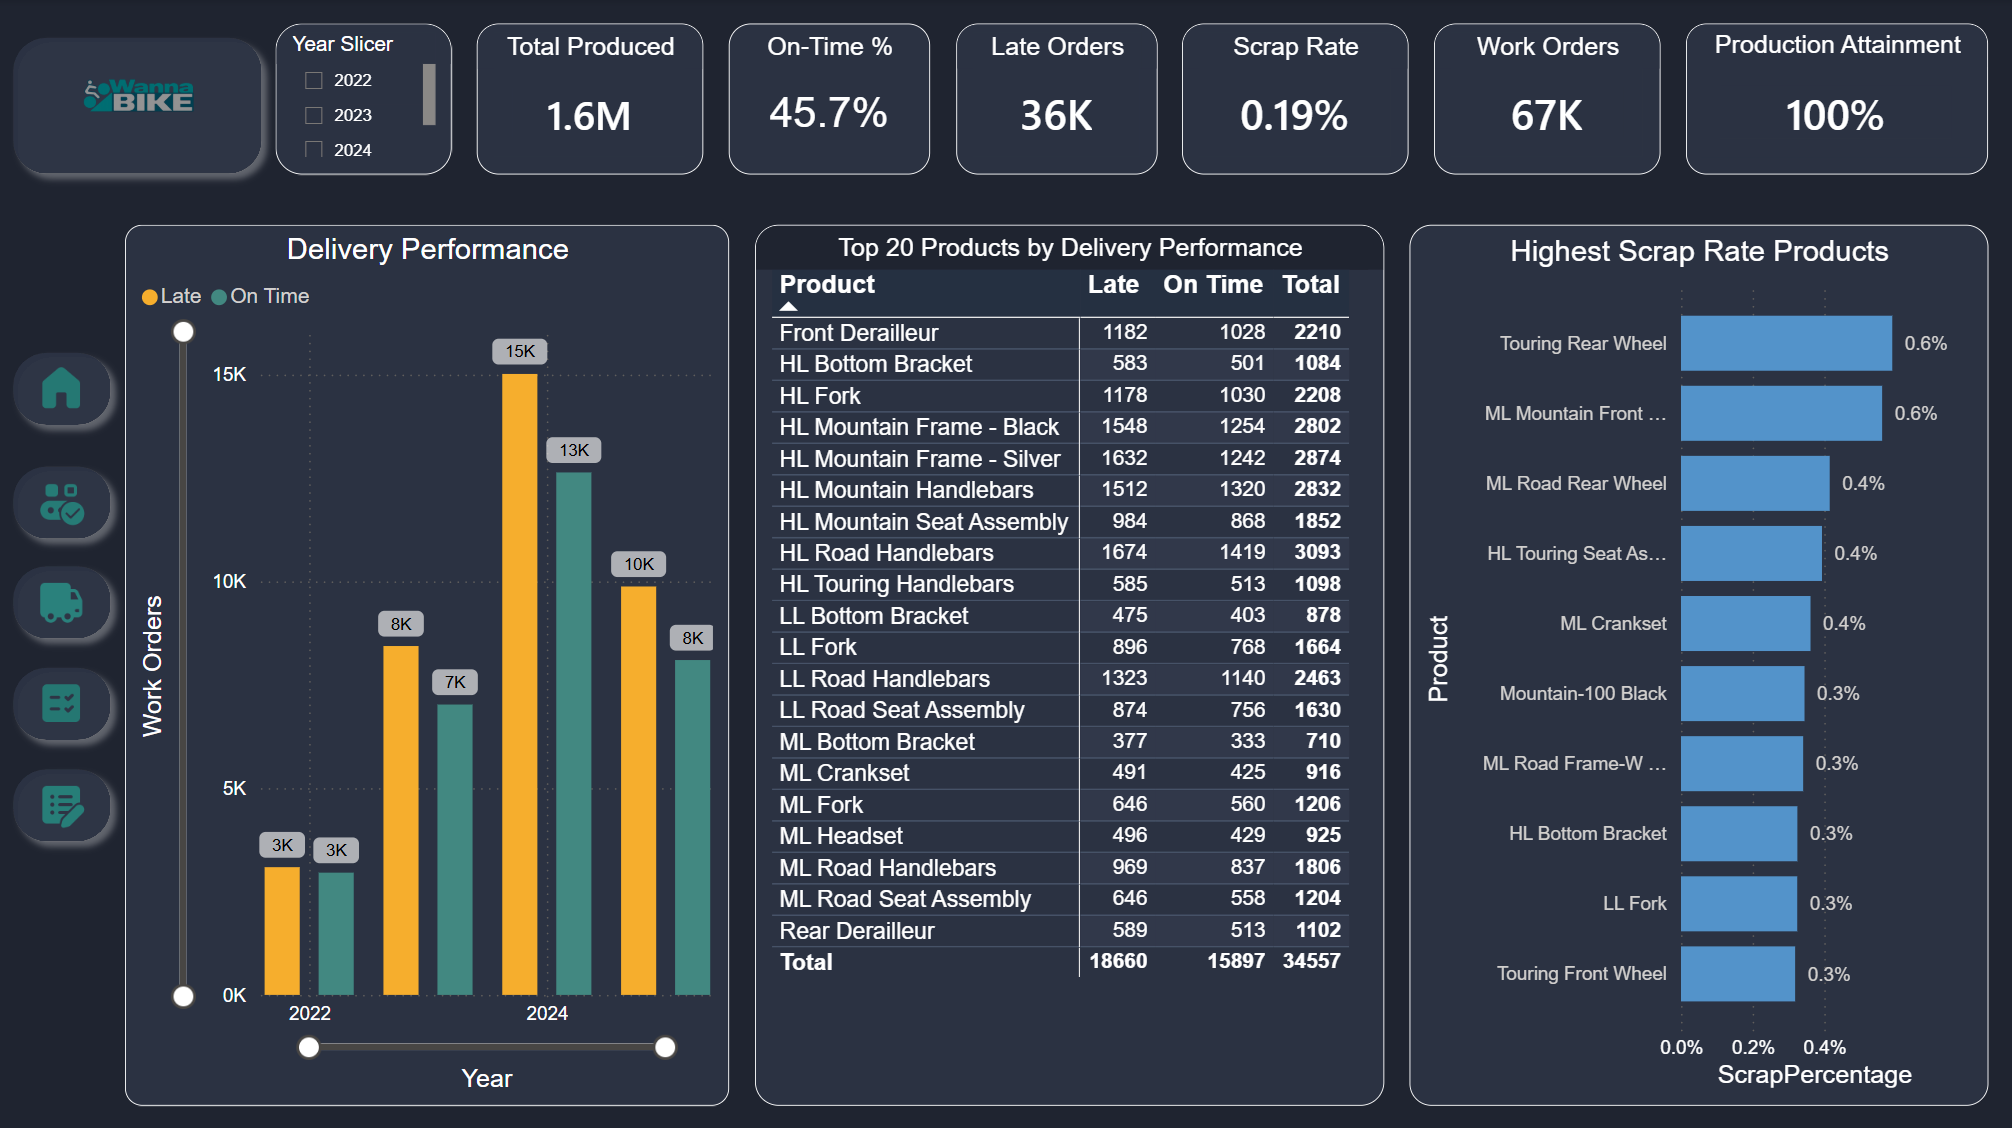

Layout of this report page (visuals, bound fields, positions):
{"tool":"powerbi","page":{"name":"Overview","canvas":[1280,720],"ordinal":1},"visuals":[{"type":"lineClusteredColumnComboChart","title":"Delivery Performance ","fields":{"Category":["ExtendedDimDate.JAAR"],"Series":["FactProductionWorkOrder.IsSameWeekLabel"],"Y":["CountNonNull(FactProductionWorkOrder.WorkOrderOperationKey)"]},"box":[80,144,384,560],"z":0},{"type":"actionButton","box":[0,16,176,104.5],"z":3,"group":"g6"},{"type":"actionButton","box":[0,216,80,64],"z":4,"group":"g1"},{"type":"pivotTable","title":"Top 20 Products by Delivery Performance","fields":{"Columns":["FactProductionWorkOrder.IsSameWeekLabel"],"Rows":["DimProduct.ProductName"],"Values":["CountNonNull(FactProductionWorkOrder.WorkOrderOperationKey)"]},"box":[480,144,400,560],"z":1000},{"type":"clusteredBarChart","title":"Highest Scrap Rate Products","fields":{"Category":["DimProduct.ProductName"],"Y":["DimDate.ScrapPercentage"]},"box":[896,144,368,560],"z":2000},{"type":"slicer","title":"Year Slicer","fields":{"Values":["ExtendedDimDate.JAAR"]},"box":[176,16,112,96],"z":4000},{"type":"group","id":"g1","title":"Group 1","box":[0,216,80,64],"z":5000},{"type":"group","id":"g2","title":"Group 2","box":[0,288,80,64],"z":6000},{"type":"group","id":"g3","title":"Group 3","box":[0,352,80,64],"z":7000},{"type":"group","id":"g4","title":"Group 4","box":[0,416,80,64],"z":8000},{"type":"actionButton","box":[0,288,80,64],"z":8001,"group":"g2"},{"type":"actionButton","box":[0,352,80,64],"z":8002,"group":"g3"},{"type":"actionButton","box":[0,416,80,64],"z":8003,"group":"g4"},{"type":"actionButton","box":[0,480,80,64],"z":8004,"group":"g5"},{"type":"image","box":[0,16,176,96],"z":8014,"group":"g6"},{"type":"image","box":[16,232,48,32],"z":8016,"group":"g1"},{"type":"image","box":[16,304,48,32],"z":8018,"group":"g2"},{"type":"image","box":[16,368,48,32],"z":8020,"group":"g3"},{"type":"image","box":[16,432,48,32],"z":8022,"group":"g4"},{"type":"image","box":[16,496,48,32],"z":8024,"group":"g5"},{"type":"group","id":"g5","title":"Group 5","box":[0,480,80,64],"z":9000},{"type":"group","id":"g6","title":"Group 7","box":[0,16,176,104.5],"z":10000},{"type":"cardVisual","title":"Total Produced","fields":{"Data":["Measures (3).Total Produced (Scheduled)"]},"box":[304,16,144,96],"z":11000},{"type":"card","title":"On-Time %","fields":{"Values":["Measures (3).On-time Rate"]},"box":[464,16,128,96],"z":12000},{"type":"cardVisual","title":"Late Orders","fields":{"Data":["Measures (3).Late Orders"]},"box":[608,16,128,96],"z":13000},{"type":"cardVisual","title":"Scrap Rate","fields":{"Data":["Measures (3).Scrap %"]},"box":[752,16,144,96],"z":14000},{"type":"cardVisual","title":"Production Attainment","fields":{"Data":["Measures (3).Production Efficiency"]},"box":[1072,16,192,96],"z":15000},{"type":"cardVisual","title":"Work Orders","fields":{"Data":["Measures (3).Workorders"]},"box":[912,16,144,96],"z":16000}]}

Visuals, with their boxes in screenshot pixels (x1, y1, x2, y2), scaled from the page's 1280x720 canvas onto the 2012x1128 screenshot:
"Delivery Performance " lineClusteredColumnComboChart: BBox(126, 226, 729, 1103)
actionButton: BBox(0, 25, 277, 189)
actionButton: BBox(0, 338, 126, 439)
"Top 20 Products by Delivery Performance" pivotTable: BBox(754, 226, 1383, 1103)
"Highest Scrap Rate Products" clusteredBarChart: BBox(1408, 226, 1987, 1103)
"Year Slicer" slicer: BBox(277, 25, 453, 175)
"Group 1" group: BBox(0, 338, 126, 439)
"Group 2" group: BBox(0, 451, 126, 551)
"Group 3" group: BBox(0, 551, 126, 652)
"Group 4" group: BBox(0, 652, 126, 752)
actionButton: BBox(0, 451, 126, 551)
actionButton: BBox(0, 551, 126, 652)
actionButton: BBox(0, 652, 126, 752)
actionButton: BBox(0, 752, 126, 852)
image: BBox(0, 25, 277, 175)
image: BBox(25, 363, 101, 414)
image: BBox(25, 476, 101, 526)
image: BBox(25, 577, 101, 627)
image: BBox(25, 677, 101, 727)
image: BBox(25, 777, 101, 827)
"Group 5" group: BBox(0, 752, 126, 852)
"Group 7" group: BBox(0, 25, 277, 189)
"Total Produced" cardVisual: BBox(478, 25, 704, 175)
"On-Time %" card: BBox(729, 25, 931, 175)
"Late Orders" cardVisual: BBox(956, 25, 1157, 175)
"Scrap Rate" cardVisual: BBox(1182, 25, 1408, 175)
"Production Attainment" cardVisual: BBox(1685, 25, 1987, 175)
"Work Orders" cardVisual: BBox(1434, 25, 1660, 175)
